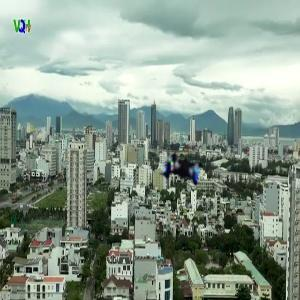drone: (150, 147, 220, 217)
